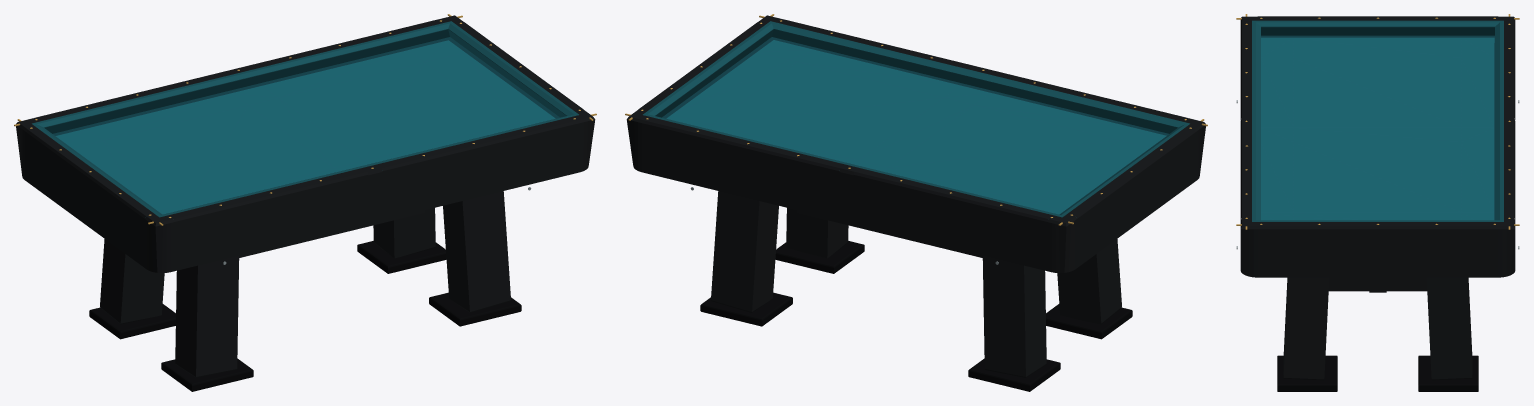
The model's file is table-threecushion-5-chinese-ebony.glb.
3 views of the same model, side by side, from view 1: azimuth 30°, elevation 25°; view 2: azimuth 150°, elevation 25°; view 3: azimuth 270°, elevation 25° (orthographic).
Visible parts, largest first — view 1: table-threecushion-5-chinese-ebony, break-builder-table-support; view 2: table-threecushion-5-chinese-ebony, break-builder-table-support; view 3: table-threecushion-5-chinese-ebony, break-builder-table-support.
Boxes of the visible parts, x1,y1,x2,y2 form: table-threecushion-5-chinese-ebony: (16, 15, 595, 272); break-builder-table-support: (89, 191, 521, 391); table-threecushion-5-chinese-ebony: (626, 15, 1205, 272); break-builder-table-support: (700, 191, 1132, 391); table-threecushion-5-chinese-ebony: (1240, 16, 1515, 277); break-builder-table-support: (1277, 277, 1478, 391).
Bounding box in the file's own units: 1.71 × 0.7156 × 0.9527.
25 materials, 1 textured.
